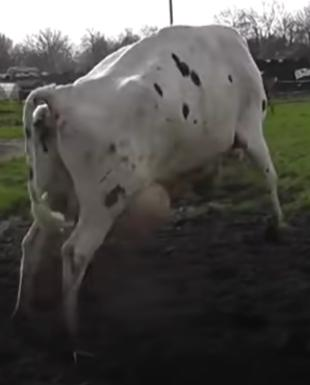cow: (15, 25, 287, 350)
